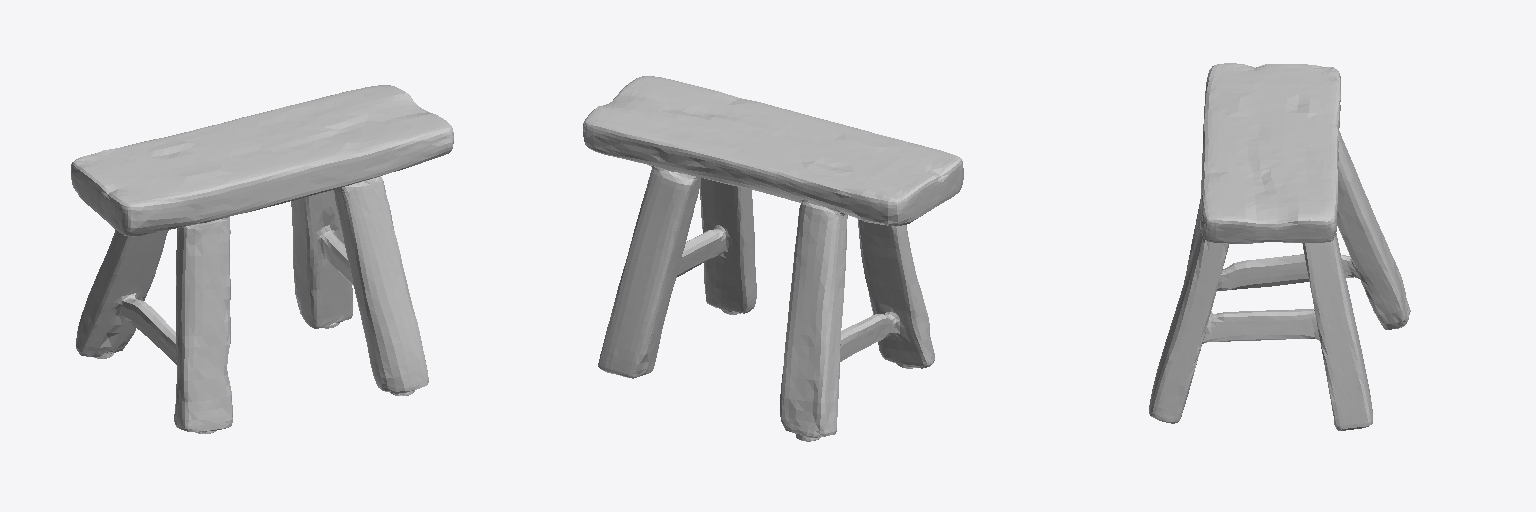
Rendered from wooden_stool_02_pieces.obj.
3 renders of one model, left to right at view 1: azimuth 30°, elevation 25°; view 2: azimuth 150°, elevation 25°; view 3: azimuth 270°, elevation 25°, orthographic.
Parts seen in each view (by area): view 1: wooden_stool_02.001, wooden_stool_02.005, wooden_stool_02.002, wooden_stool_02.006, wooden_stool_02.003, wooden_stool_02.007, wooden_stool_02.004; view 2: wooden_stool_02.001, wooden_stool_02.006, wooden_stool_02.003, wooden_stool_02.005, wooden_stool_02.002, wooden_stool_02.007, wooden_stool_02.004; view 3: wooden_stool_02.001, wooden_stool_02.003, wooden_stool_02.002, wooden_stool_02.006, wooden_stool_02.004, wooden_stool_02.007.
Boxes of the visible parts, x1,y1,x2,y2 form: wooden_stool_02.001: [71, 85, 453, 236]; wooden_stool_02.005: [174, 217, 232, 433]; wooden_stool_02.002: [333, 176, 428, 395]; wooden_stool_02.006: [76, 230, 168, 358]; wooden_stool_02.003: [291, 190, 352, 328]; wooden_stool_02.007: [118, 295, 176, 364]; wooden_stool_02.004: [321, 231, 353, 285]; wooden_stool_02.001: [583, 76, 963, 226]; wooden_stool_02.006: [780, 201, 847, 441]; wooden_stool_02.003: [598, 166, 700, 378]; wooden_stool_02.005: [858, 219, 934, 368]; wooden_stool_02.002: [700, 178, 756, 314]; wooden_stool_02.007: [840, 312, 899, 361]; wooden_stool_02.004: [677, 225, 728, 276]; wooden_stool_02.001: [1200, 63, 1340, 243]; wooden_stool_02.003: [1302, 233, 1372, 430]; wooden_stool_02.002: [1149, 229, 1229, 423]; wooden_stool_02.006: [1337, 131, 1410, 329]; wooden_stool_02.004: [1203, 309, 1319, 343]; wooden_stool_02.007: [1217, 254, 1359, 290].
Size of the model in its own units: 0.2652 by 0.1819 by 0.1831.